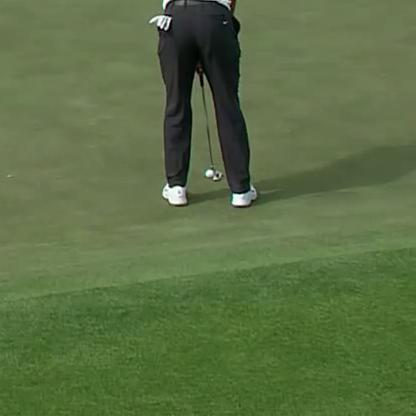golfball: (203, 167, 213, 177)
